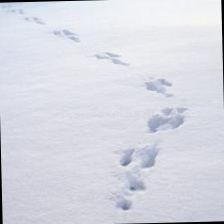rabbit: (92, 49, 131, 67)
